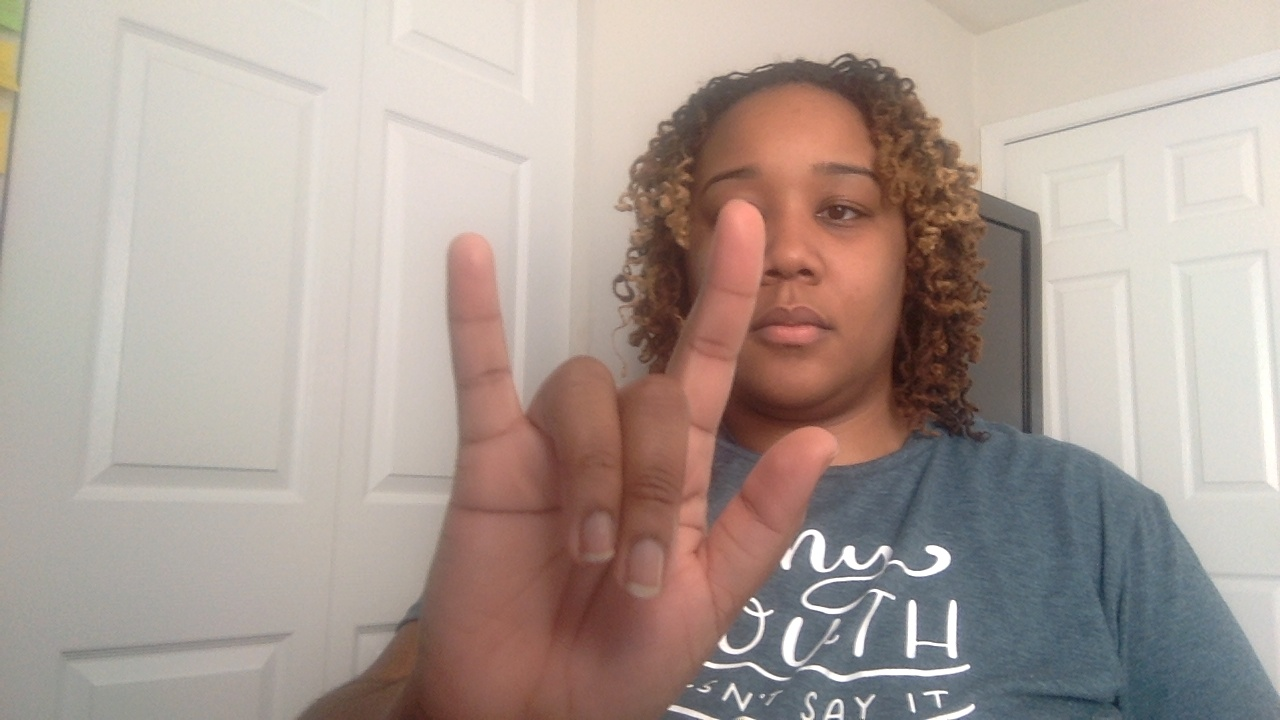i_love_you: (403, 200, 837, 718)
